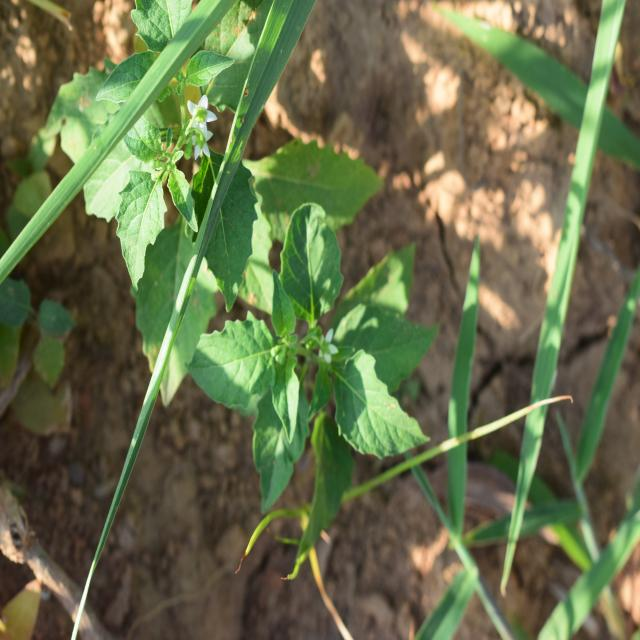Black_nightshade: (245, 237, 424, 480)
